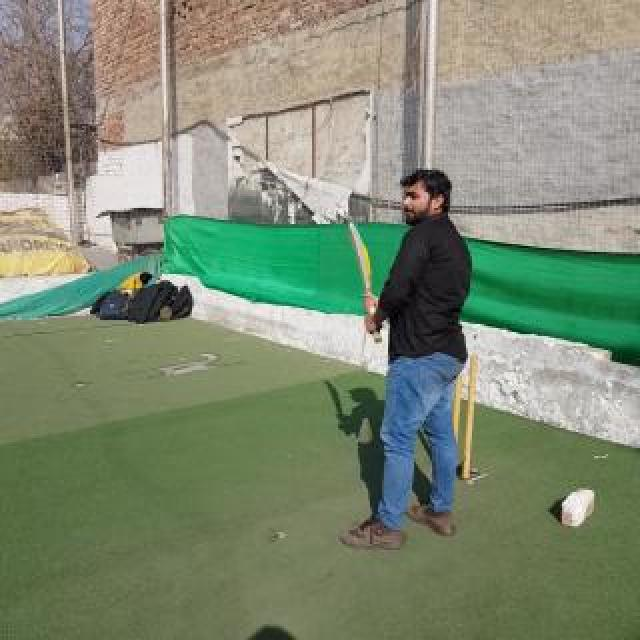bat: (347, 220, 383, 344)
